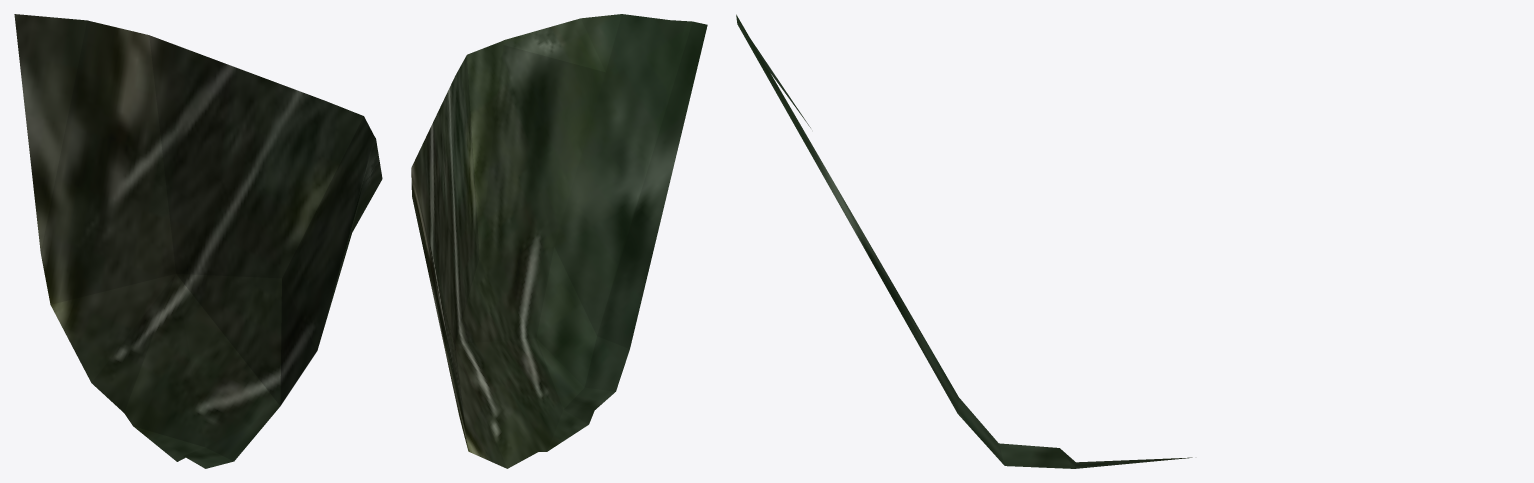
3 views of the same model, side by side, from view 1: azimuth 30°, elevation 25°; view 2: azimuth 150°, elevation 25°; view 3: azimuth 270°, elevation 25° (orthographic). The views are drawn at different scales.
Bounding box in the file's own units: 0.5465 × 1.09 × 1.73.
1 material, 1 textured.
